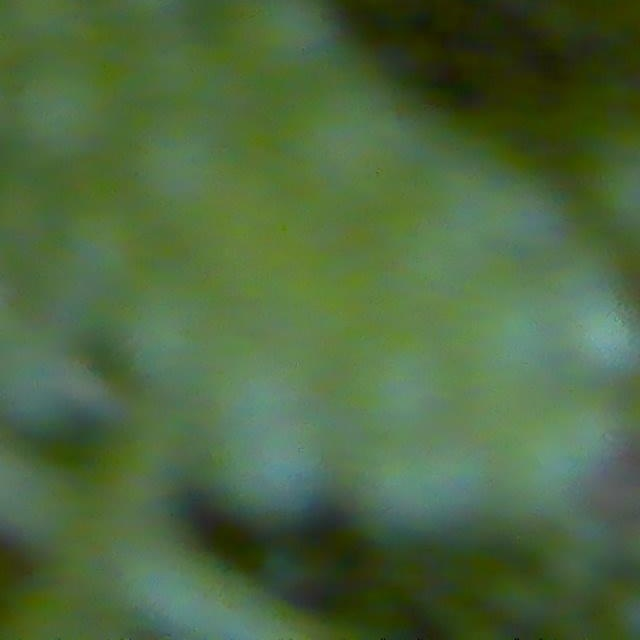SeaGrape: (6, 50, 123, 167), (225, 0, 345, 88), (563, 298, 640, 381)
